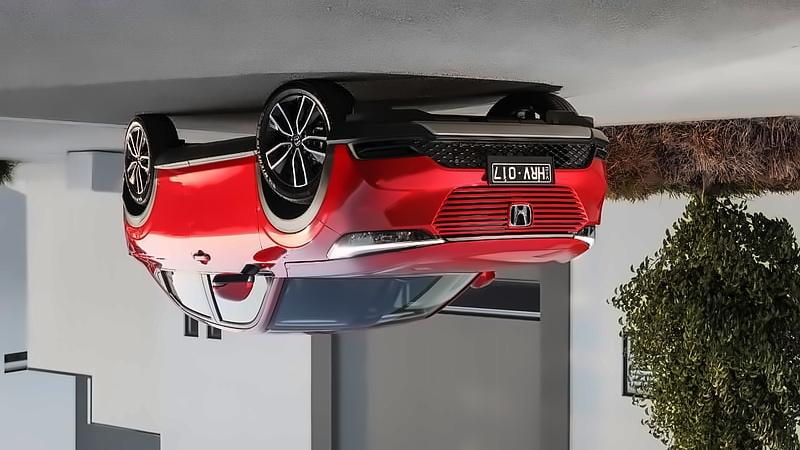Car hood: (283, 236, 594, 282)
Fender - -F-L-: (253, 136, 340, 280)
Fender - -R-L-: (124, 153, 160, 262)
Front bumper: (319, 112, 615, 229)
Headlight - -L-: (324, 226, 441, 265)
Headlight - -R-: (570, 221, 600, 252)
Passenger-s door - -F-L-: (193, 132, 267, 334)
Passenger-s door - -R-L-: (146, 138, 211, 323)
Rear bumper: (106, 183, 135, 237)
Side bumper - -L-: (146, 128, 265, 172)
Side mirror - -L-: (205, 266, 266, 308)
Side mirror - -R-: (468, 266, 500, 294)
